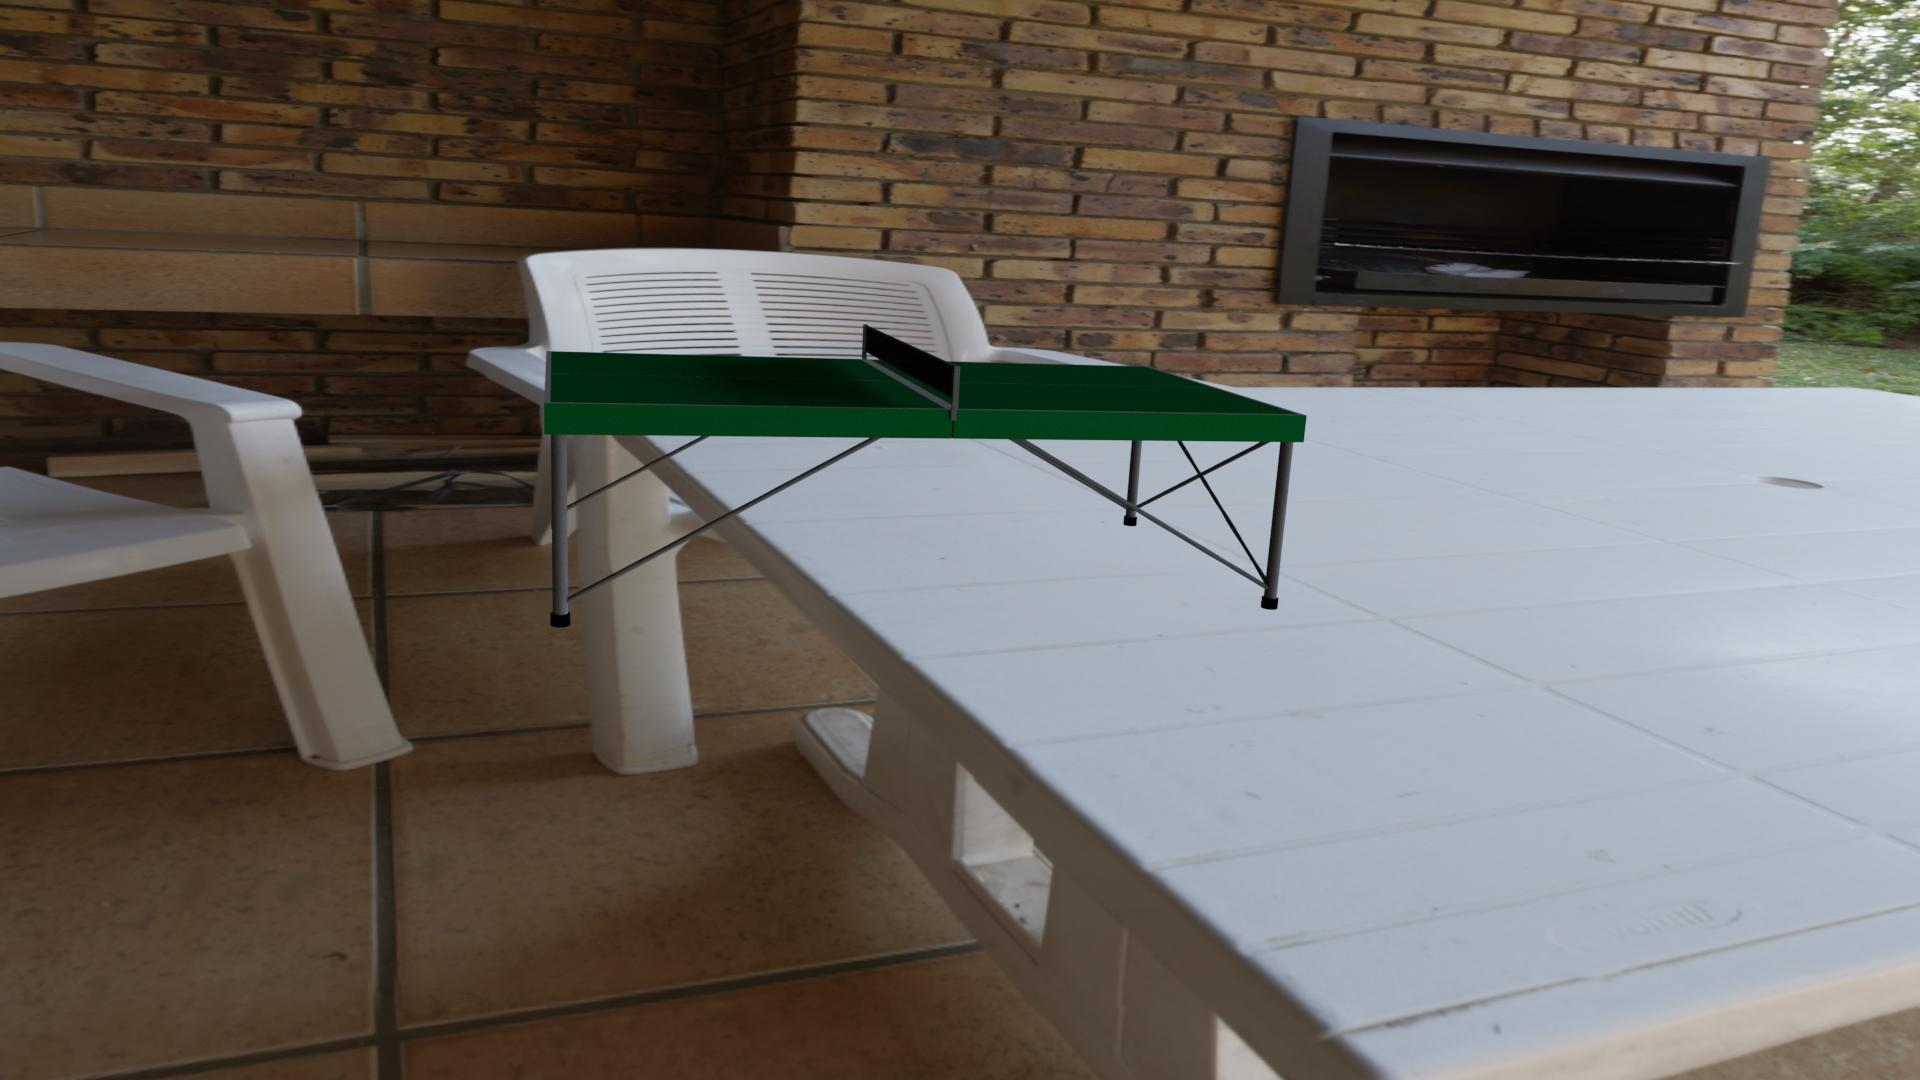table: (550, 352, 1299, 414)
